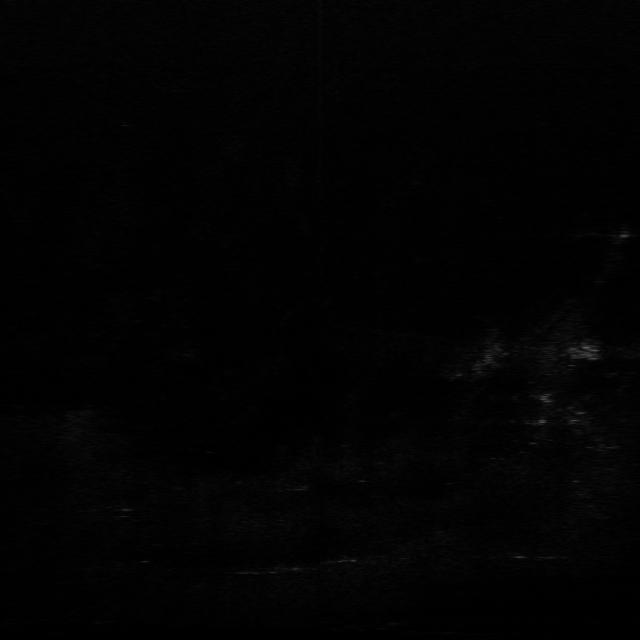rov: (570, 342, 606, 365)
